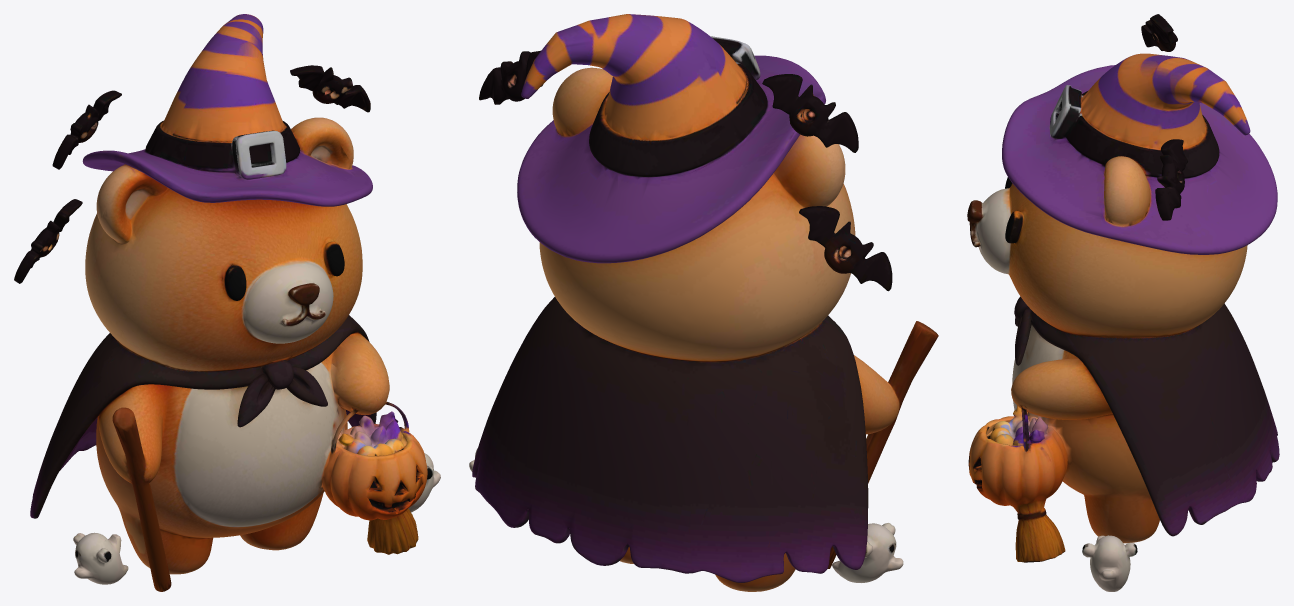
The picture shows the model from 3 angles, left to right: view 1: azimuth 30°, elevation 25°; view 2: azimuth 150°, elevation 25°; view 3: azimuth 270°, elevation 25°; orthographic projection. The views are drawn at different scales.
Visible parts, largest first — view 1: material; view 2: material; view 3: material.
Boxes of the visible parts, x1,y1,x2,y2 form: material: [14, 14, 440, 591]; material: [469, 14, 938, 591]; material: [967, 14, 1279, 591].
Size of the model in its own units: 4.12 by 4.88 by 2.94.
1 material, 1 textured.
